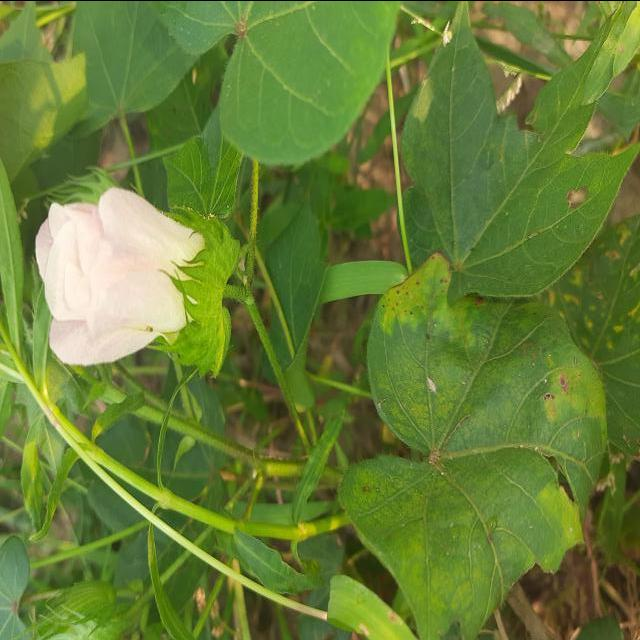Cotton Blossom: (30, 186, 242, 380)
